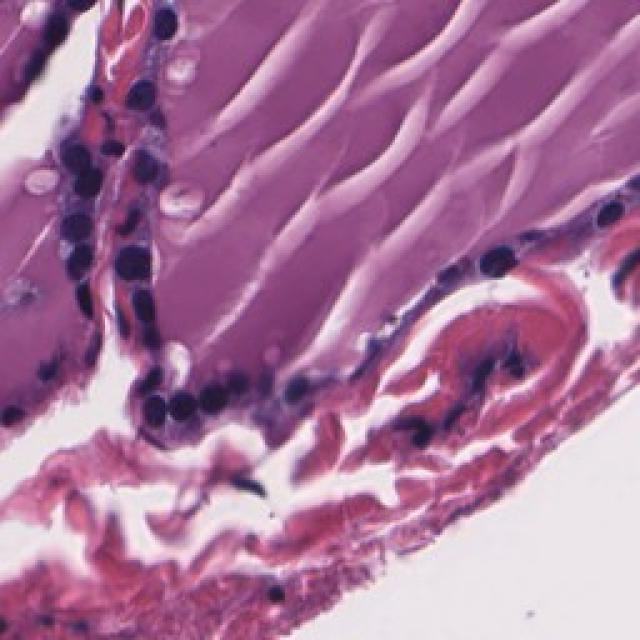normal: (93, 262, 185, 350), (115, 370, 201, 455), (181, 355, 253, 447), (75, 70, 180, 129), (570, 170, 634, 255), (465, 224, 539, 297), (106, 0, 207, 53), (15, 0, 85, 70), (43, 185, 114, 246), (56, 158, 108, 211)
